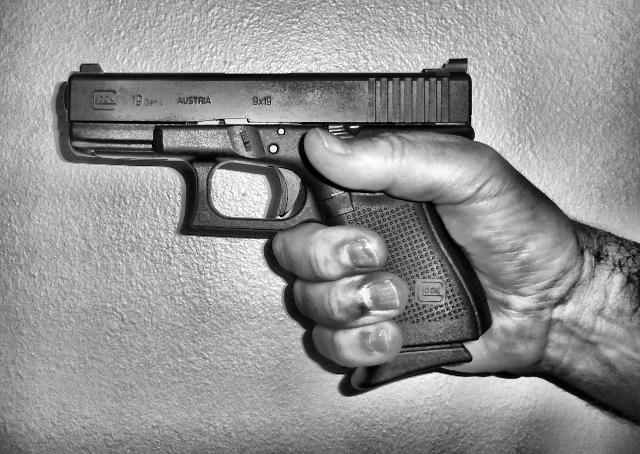pistol: (61, 58, 493, 393)
